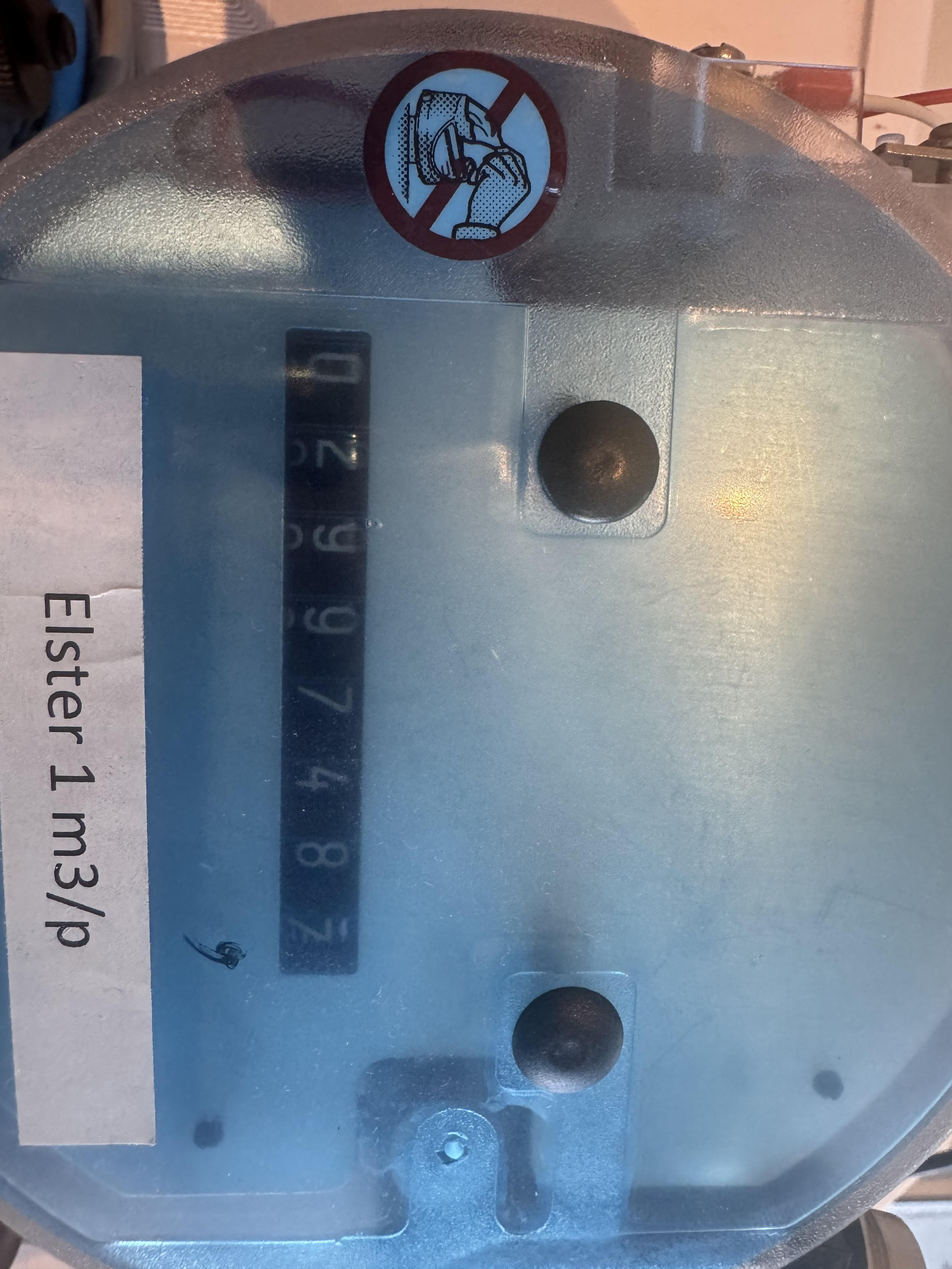analog_dial: (193, 318, 392, 993)
